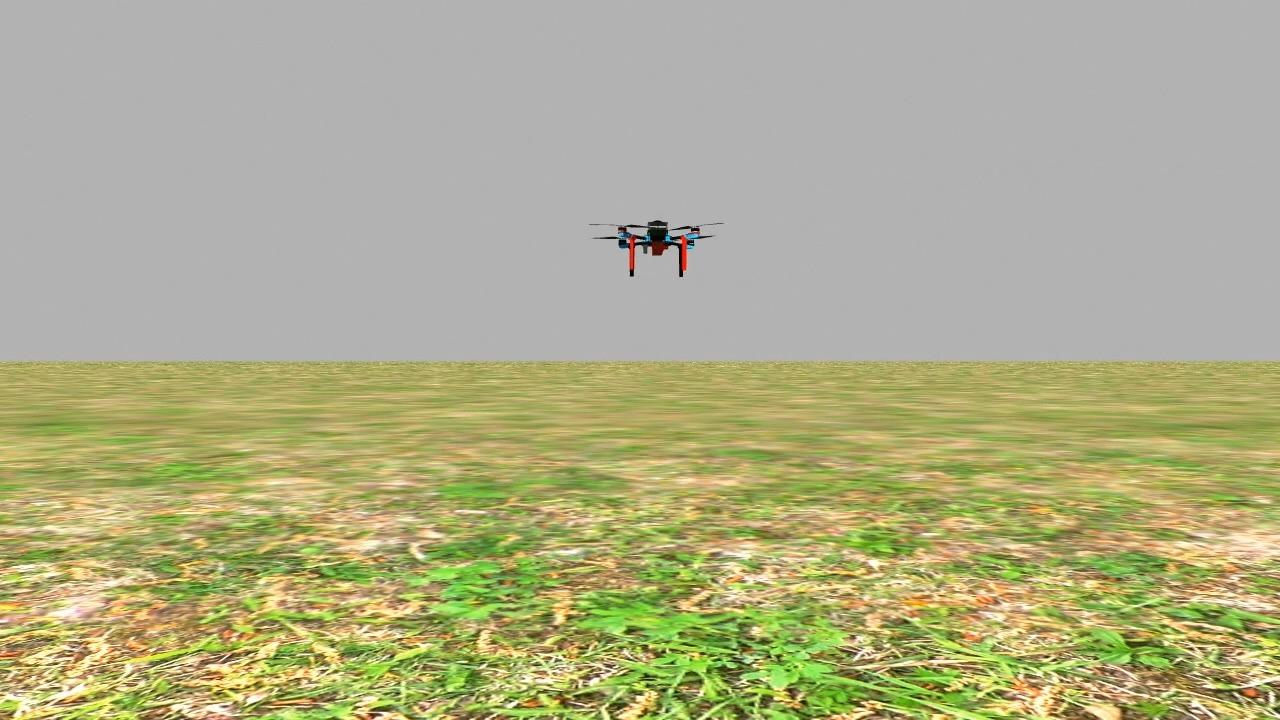UAV: (596, 209, 716, 283)
